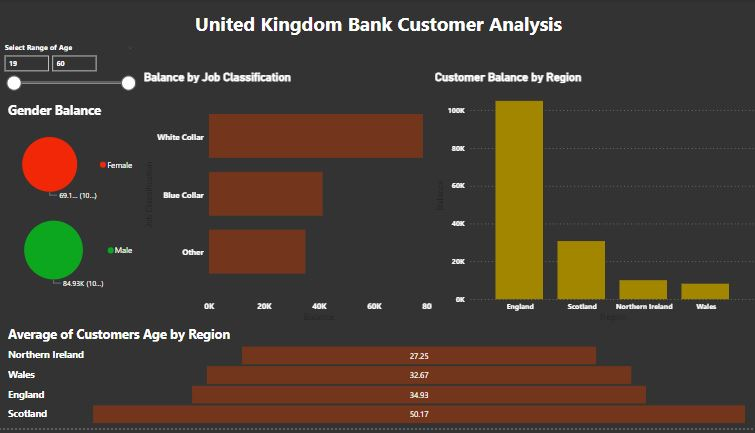

The page's visual inventory and layout, read from the dashboard file:
{"tool":"powerbi","page":{"name":"Page 1","canvas":[1280,720],"ordinal":0},"visuals":[{"type":"pieChart","fields":{"Y":["Sum(P6-UK-Bank-Customers.Balance)"],"Category":["P6-UK-Bank-Customers.Gender"]},"box":[0,208.3,241.9,139.4],"z":0},{"type":"pieChart","fields":{"Y":["Sum(P6-UK-Bank-Customers.Balance)"],"Category":["P6-UK-Bank-Customers.Gender"]},"box":[0,347.7,241.9,147.8],"z":1000},{"type":"slicer","fields":{"Values":["P6-UK-Bank-Customers.Age"]},"box":[0,67.2,241.9,99.1],"z":2000},{"type":"textbox","box":[13.4,166.3,241.9,57.1],"z":3000},{"type":"barChart","fields":{"Category":["P6-UK-Bank-Customers.Job Classification"],"Y":["Sum(P6-UK-Bank-Customers.Balance)"]},"box":[241.9,119.3,500.6,428.3],"z":4000},{"type":"clusteredColumnChart","title":"Customer Balance by Region","fields":{"Category":["P6-UK-Bank-Customers.Region"],"Y":["Sum(P6-UK-Bank-Customers.Balance)"]},"box":[730.7,119.3,549.3,428.3],"z":5000},{"type":"textbox","box":[327.6,13.4,661.8,79],"z":6000},{"type":"funnel","title":"Average of Customers Age by Region","fields":{"Category":["P6-UK-Bank-Customers.Region"],"Y":["Avg(P6-UK-Bank-Customers.Age)"]},"box":[13.4,547.6,1253.1,173],"z":7000}]}

Visuals, with their boxes in screenshot pixels (x1, y1, x2, y2), scaled from the page's 1280x720 canvas onto the 755x433 screenshot:
pieChart - Sum(P6-UK-Bank-Customers.Balance) x P6-UK-Bank-Customers.Gender: (left=0, top=125, right=143, bottom=209)
pieChart - Sum(P6-UK-Bank-Customers.Balance) x P6-UK-Bank-Customers.Gender: (left=0, top=209, right=143, bottom=298)
slicer - P6-UK-Bank-Customers.Age: (left=0, top=40, right=143, bottom=100)
textbox: (left=8, top=100, right=151, bottom=134)
barChart - P6-UK-Bank-Customers.Job Classification x Sum(P6-UK-Bank-Customers.Balance): (left=143, top=72, right=438, bottom=329)
"Customer Balance by Region" clusteredColumnChart: (left=431, top=72, right=754, bottom=329)
textbox: (left=193, top=8, right=584, bottom=56)
"Average of Customers Age by Region" funnel: (left=8, top=329, right=747, bottom=432)
